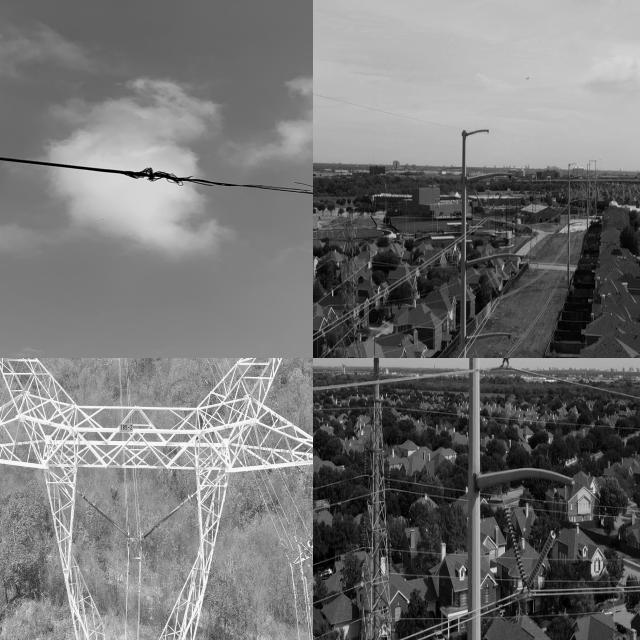杆塔: (0, 358, 313, 640), (343, 358, 407, 640), (323, 223, 379, 358)
正常绝缘子: (140, 493, 192, 543), (522, 528, 559, 597), (502, 504, 531, 592), (81, 491, 132, 541), (495, 267, 519, 304), (484, 188, 505, 222), (482, 264, 501, 300), (472, 185, 490, 222), (306, 470, 313, 554), (470, 343, 482, 358), (494, 347, 505, 358)
电缆破损: (129, 154, 313, 219)
